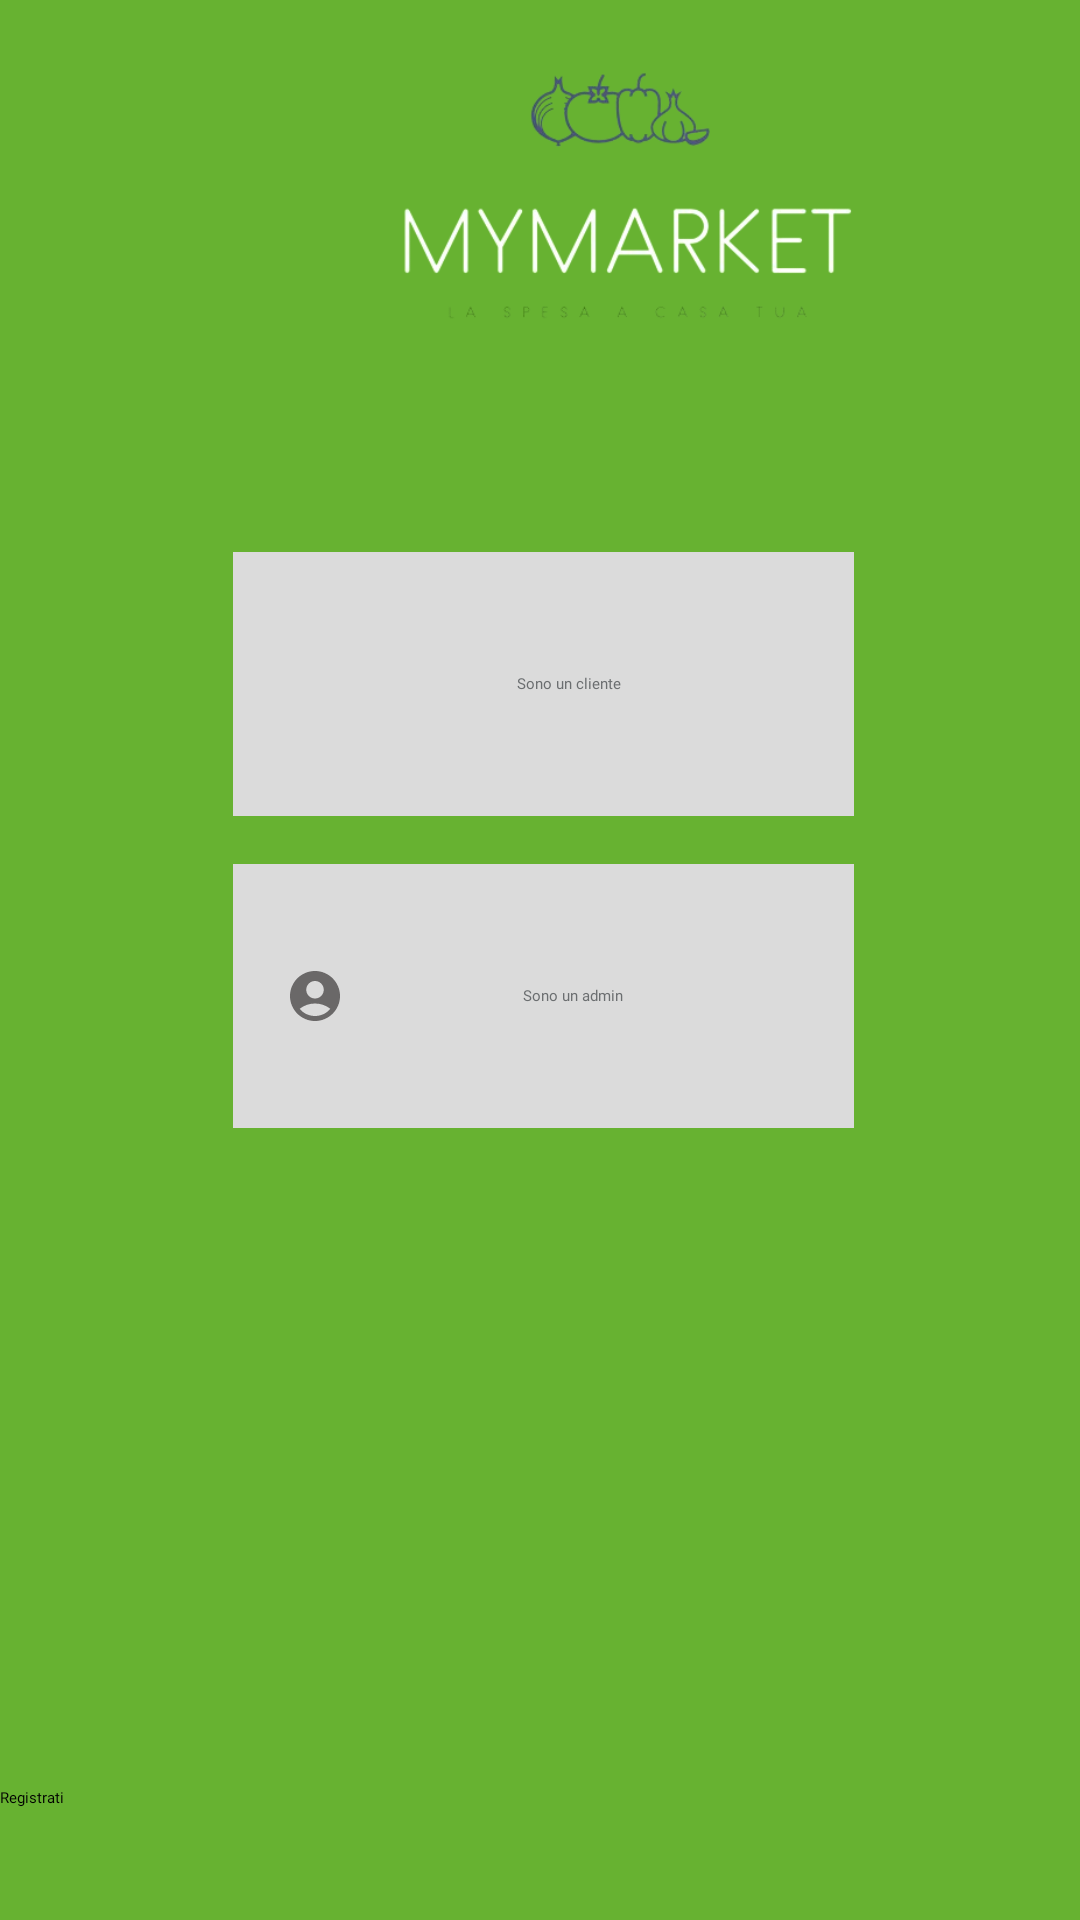

Icons on this 1080*1920 Android screen, each with the point to tap as (x,y):
account circle: (315,996)
